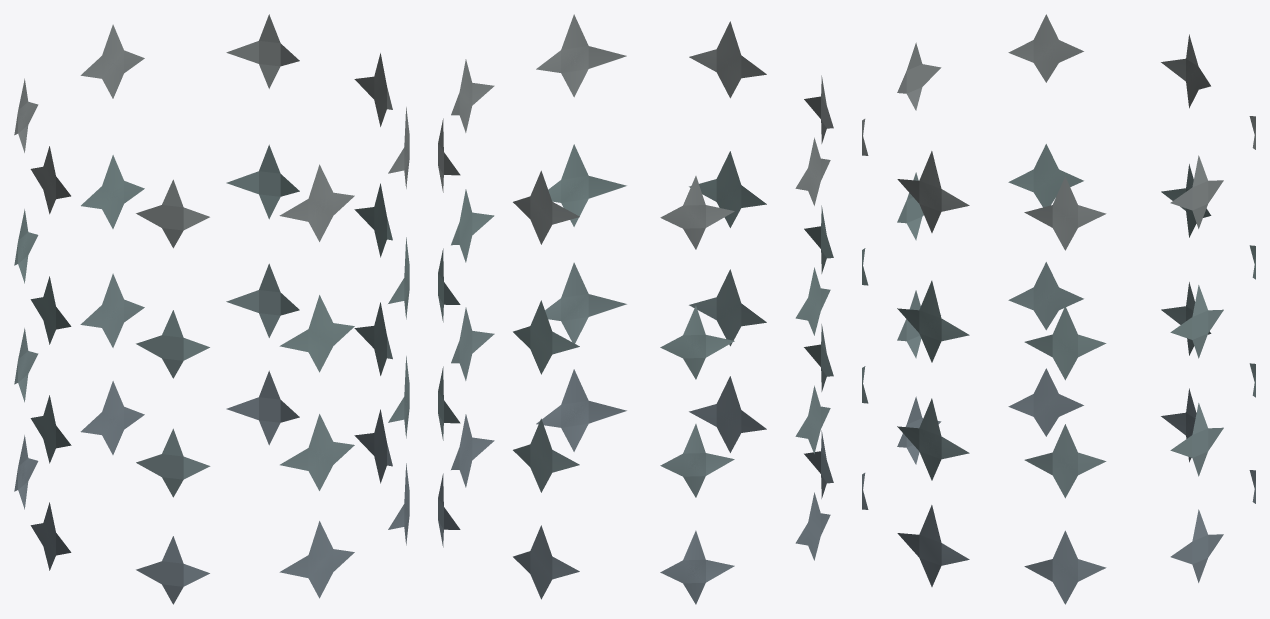
Rendered from redemption_proc.glb.
3 views of the same model, side by side, from view 1: azimuth 30°, elevation 25°; view 2: azimuth 150°, elevation 25°; view 3: azimuth 270°, elevation 25° (orthographic).
Parts seen in each view (by area): view 1: Redemption prayer proc spotanim; view 2: Redemption prayer proc spotanim; view 3: Redemption prayer proc spotanim.
Part boxes in pixels (box(x1,y1,x2,y2)): Redemption prayer proc spotanim: box(14, 14, 409, 604); Redemption prayer proc spotanim: box(438, 14, 833, 604); Redemption prayer proc spotanim: box(862, 14, 1255, 604).
Size of the model in its own units: 123 by 152 by 124.
